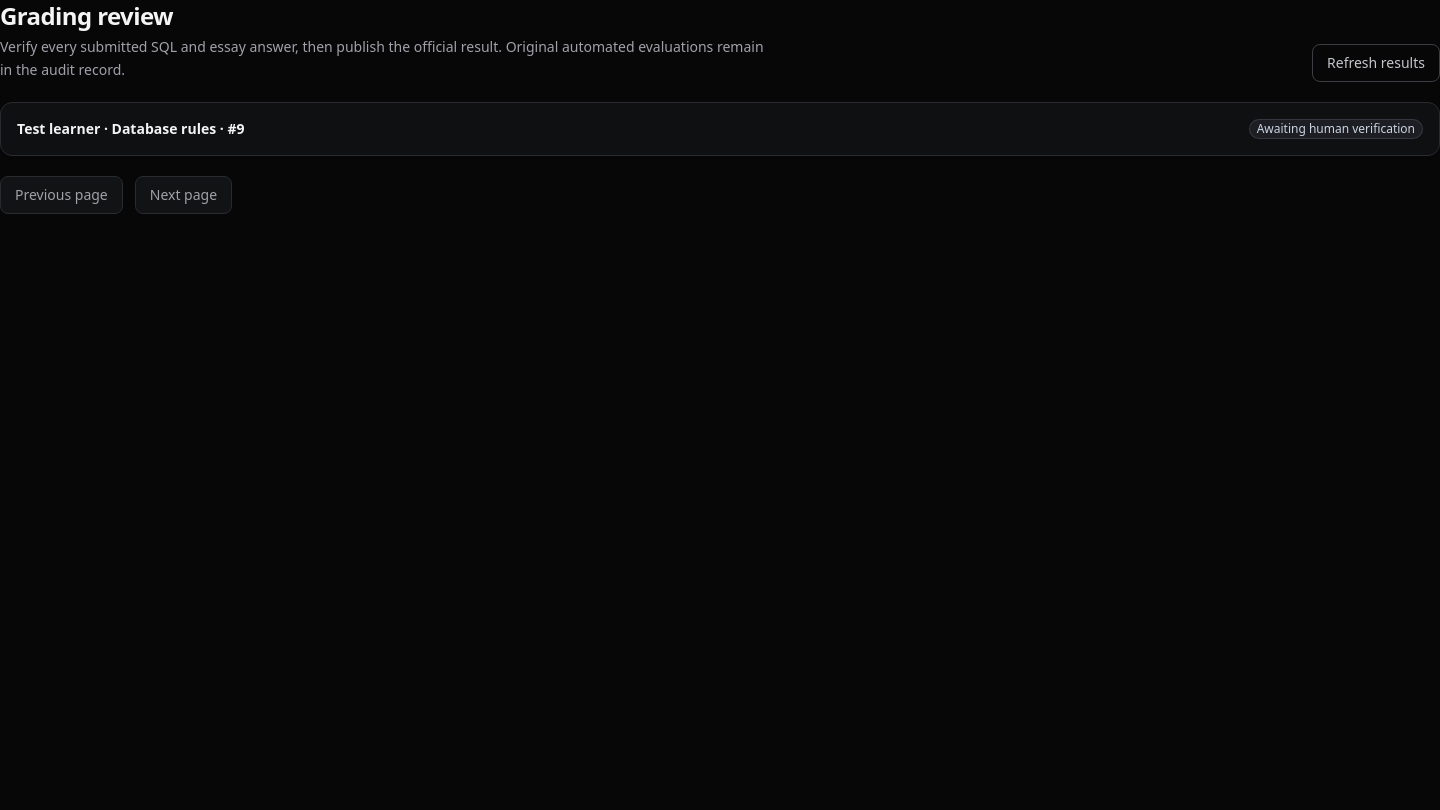
Test: shows review conflicts and allows refreshing the current review
The width and height of the screenshot is (1440, 810).
Click the button that starts with "Test learner" at point(59, 128), box top-left (1, 102), bottom-right (1439, 154)
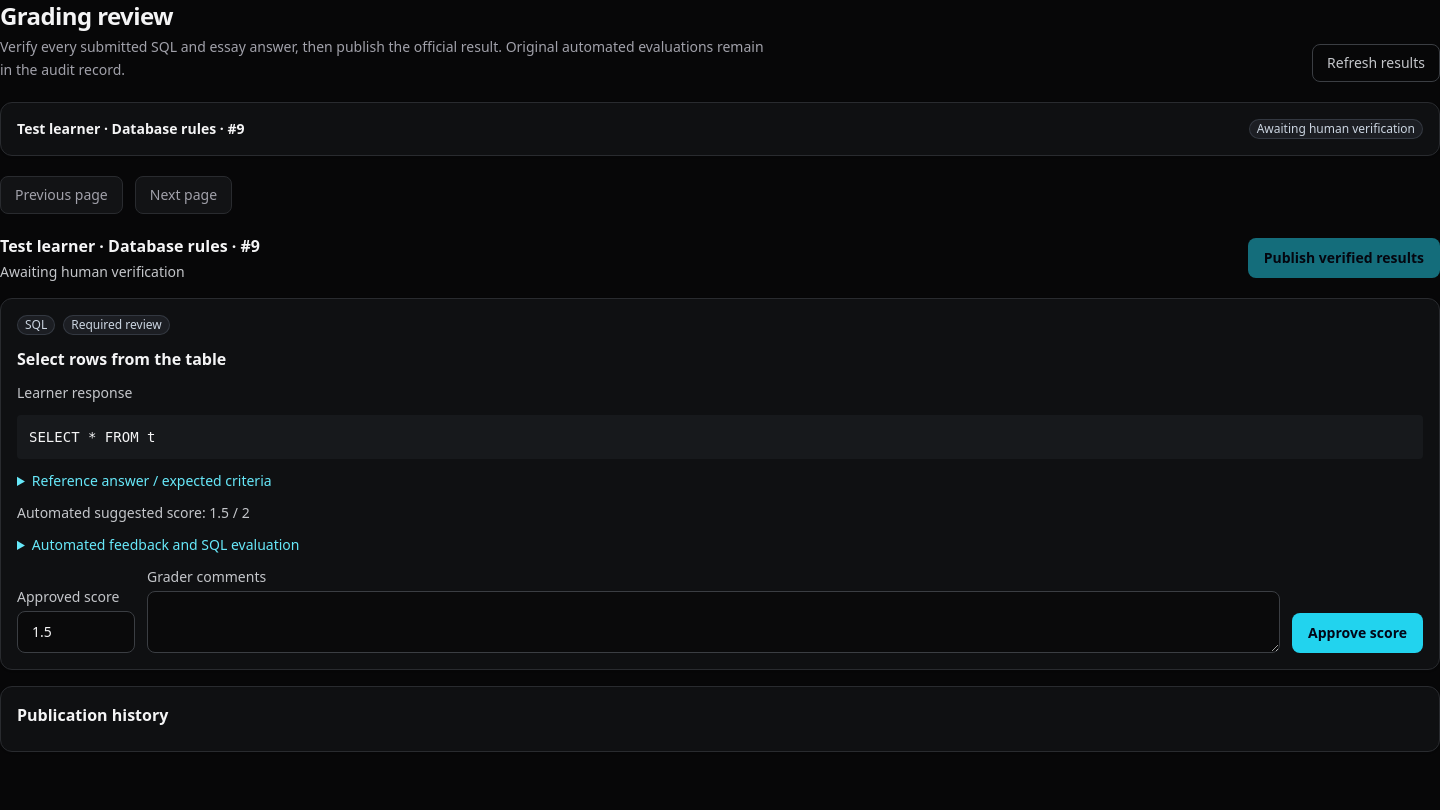
Click the button "Approve score" at point(1358, 632), box top-left (1292, 612), bottom-right (1423, 652)
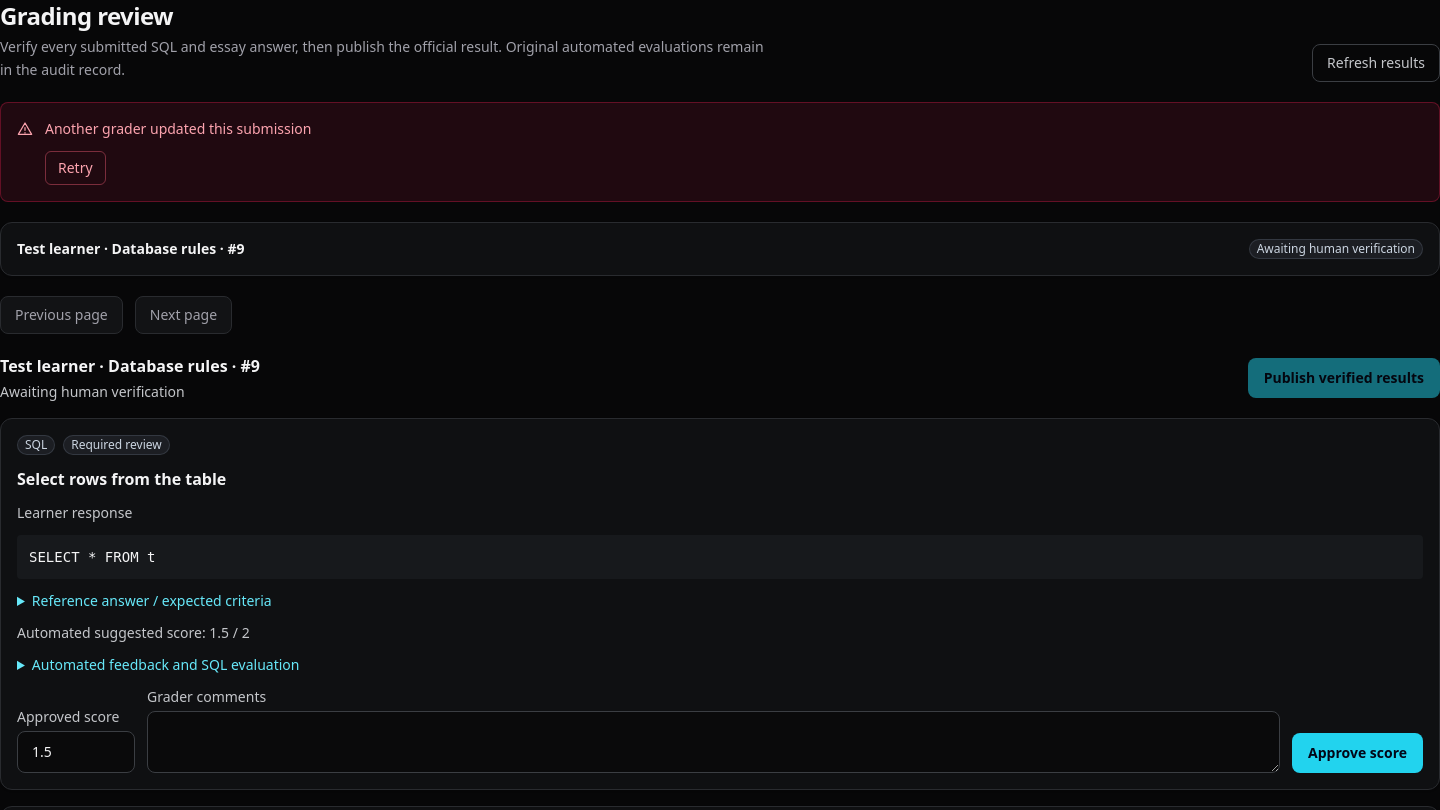
Result: the button "Publish verified results" is disabled at top-left (1248, 358), bottom-right (1439, 398)
Result: the message "Another grader updated this submission Retry" is shown at top-left (0, 102), bottom-right (1439, 202)
